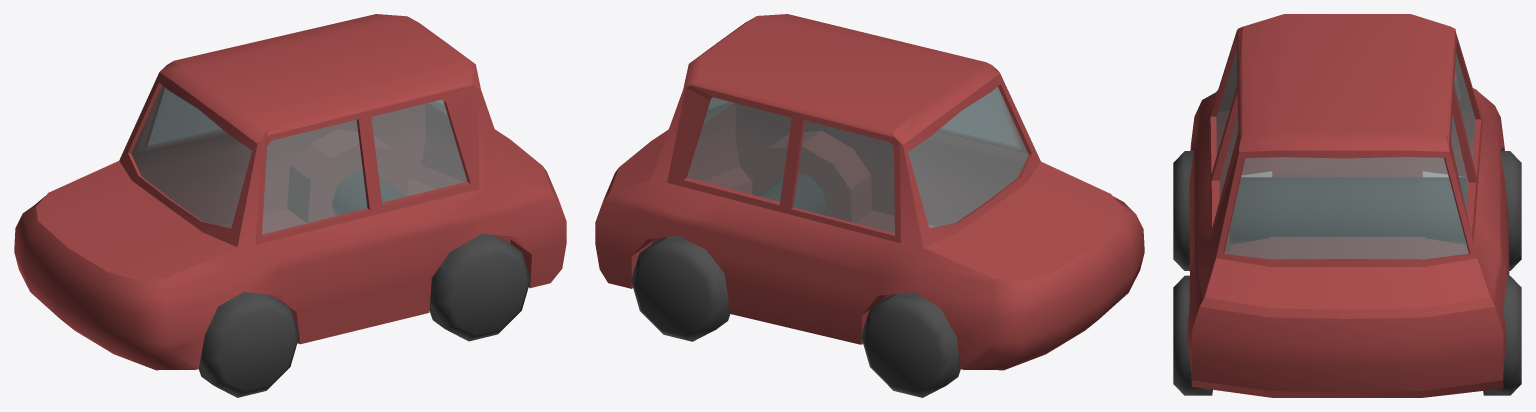
File: Car_01.fbx
The picture shows the model from 3 angles, left to right: view 1: azimuth 30°, elevation 25°; view 2: azimuth 150°, elevation 25°; view 3: azimuth 270°, elevation 25°; orthographic projection. The views are drawn at different scales.
Parts seen in each view (by area): view 1: polySurface1, polySurface4, pCylinder14, polySurface6, pCylinder15, polySurface2, polySurface5; view 2: polySurface1, polySurface4, pCylinder14, polySurface5, pCylinder15, polySurface7, polySurface6; view 3: polySurface1, polySurface3, pCylinder15, pCylinder14, polySurface5, polySurface6, polySurface7, polySurface2.
Boxes of the visible parts, <box> form: polySurface1: <box>14,14,566,370</box>; polySurface4: <box>131,85,252,227</box>; pCylinder14: <box>332,171,530,341</box>; polySurface6: <box>262,120,367,234</box>; pCylinder15: <box>198,291,299,397</box>; polySurface2: <box>371,99,467,202</box>; polySurface5: <box>147,88,223,147</box>; polySurface1: <box>595,14,1144,370</box>; polySurface4: <box>908,87,1028,228</box>; pCylinder14: <box>631,174,827,341</box>; polySurface5: <box>793,120,894,233</box>; pCylinder15: <box>861,292,960,397</box>; polySurface7: <box>687,97,791,201</box>; polySurface6: <box>939,88,1017,148</box>; polySurface1: <box>1186,14,1509,397</box>; polySurface3: <box>1224,157,1468,259</box>; pCylinder15: <box>1173,151,1521,270</box>; pCylinder14: <box>1173,275,1521,395</box>; polySurface5: <box>1454,52,1475,158</box>; polySurface6: <box>1216,50,1237,155</box>; polySurface7: <box>1451,115,1468,209</box>; polySurface2: <box>1219,113,1238,199</box>.
Bounding box in the file's own units: 26.68 × 13.35 × 15.72.
